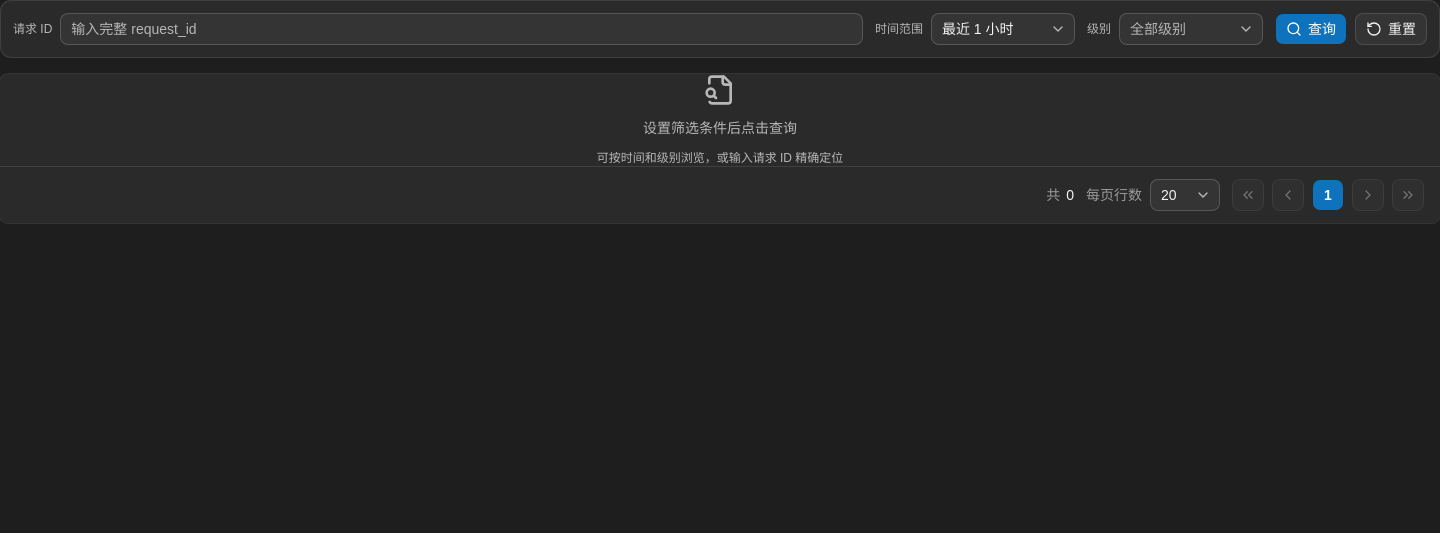
Test: 查询尚未返回时重置仍可用，重置取消请求且迟到结果不再显示
This screenshot has width=1440, height=533.
Type "request-1" into the field named "request_id" at (462, 29), box 60,13 -> 863,45
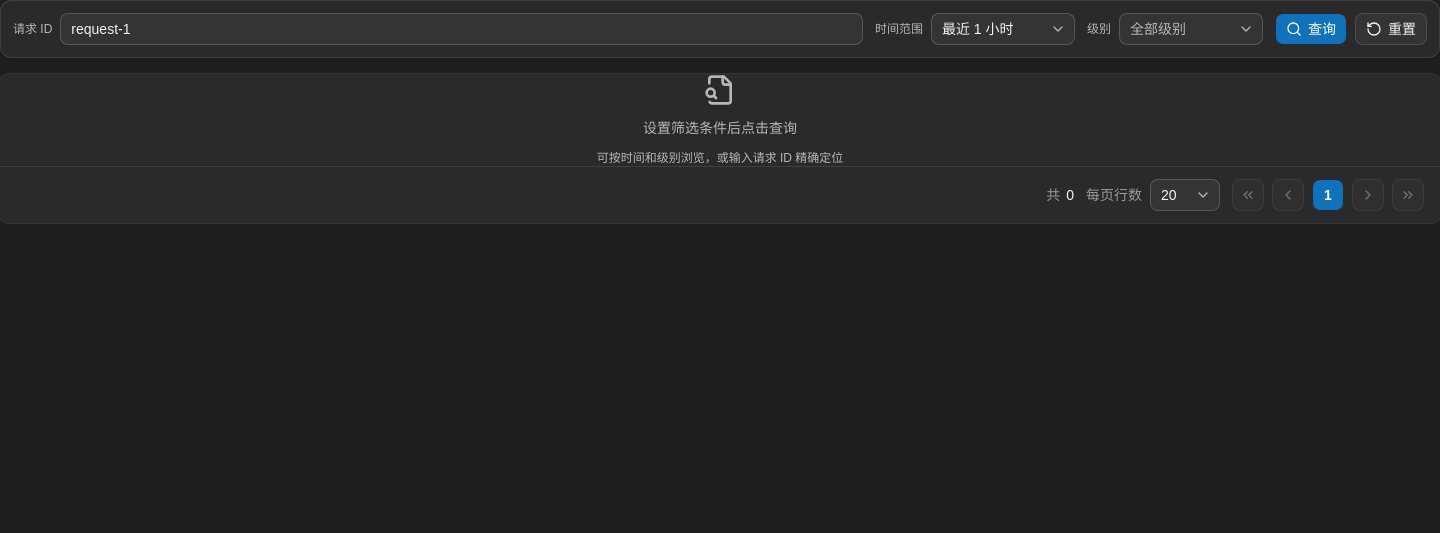
Click the button "查询" at (1311, 29), box 1275,13 -> 1347,45
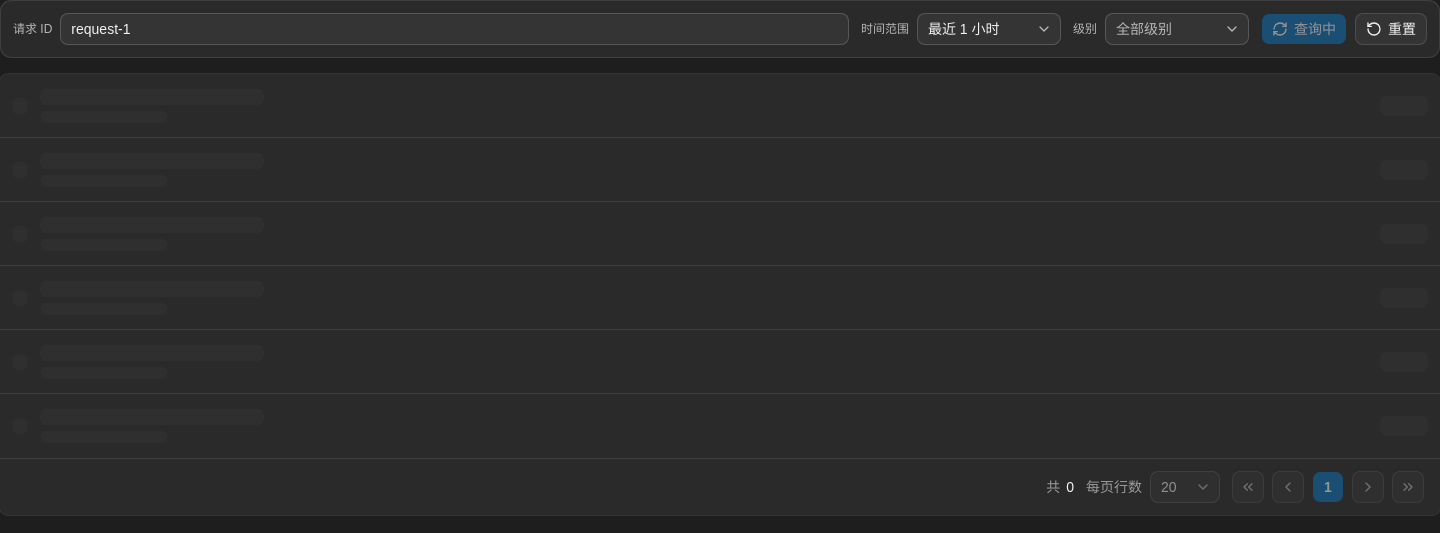
Now the message named "正在读取 Sub2API 系统日志" is shown
Click the button "重置" at (1391, 29), box 1355,13 -> 1427,45
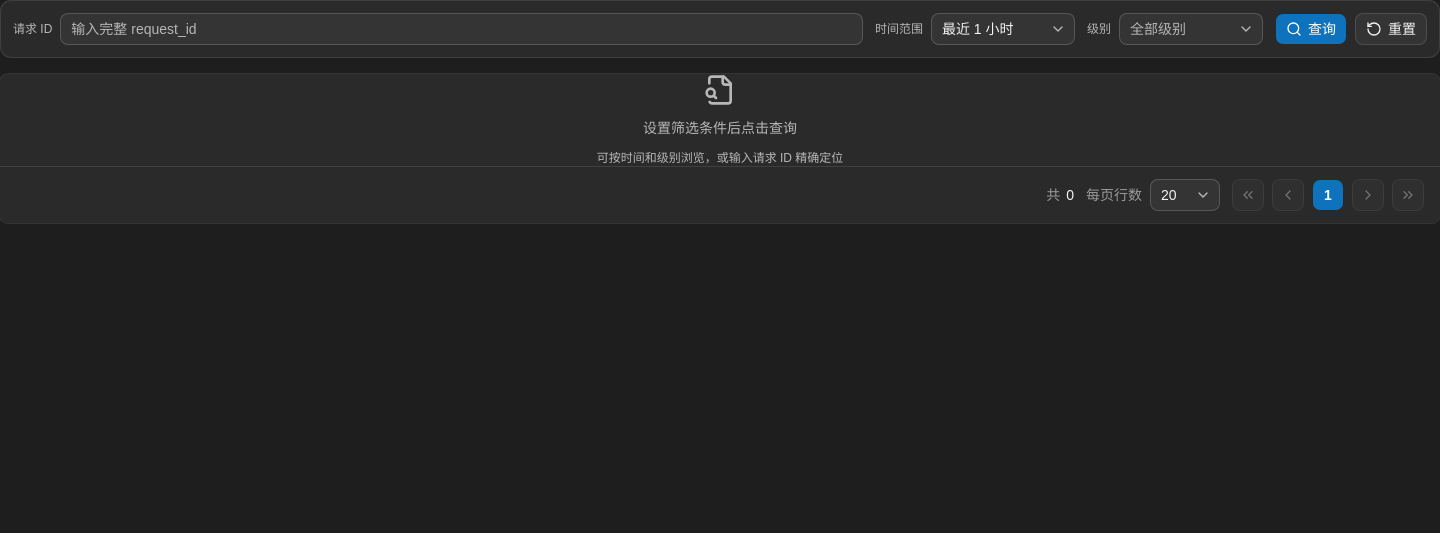
Expected: the text "request-1" is not shown
Now the text "设置筛选条件后点击查询" is shown, box 643,118 -> 797,138
Now the field named "request_id" is empty, box 60,13 -> 863,45
